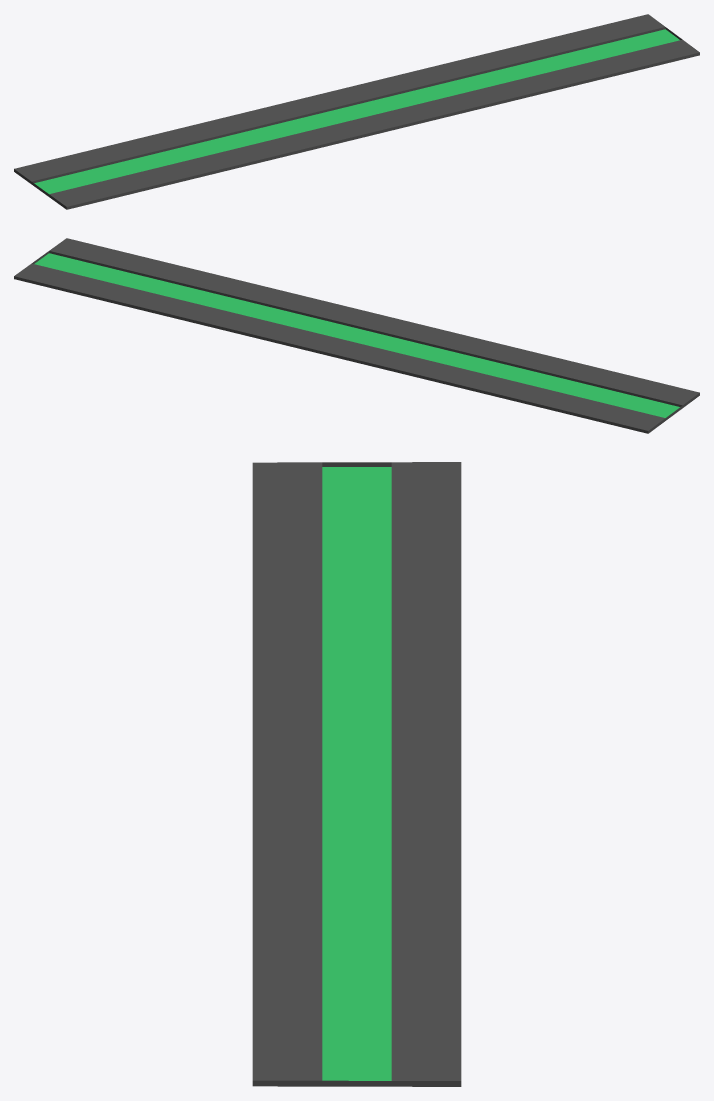
File: Ground02.FBX
The picture shows the model from 3 angles, top to bottom: view 1: azimuth 30°, elevation 25°; view 2: azimuth 150°, elevation 25°; view 3: azimuth 270°, elevation 25°; orthographic projection. The views are drawn at different scales.
Parts seen in each view (by area): view 1: Ground02; view 2: Ground02; view 3: Ground02.
Part boxes in pixels (x1,y1,x2,y2): Ground02: (14, 14, 699, 209); Ground02: (14, 238, 699, 433); Ground02: (252, 462, 461, 1086).
Bounding box in the file's own units: 11916 × 52.44 × 1700.
